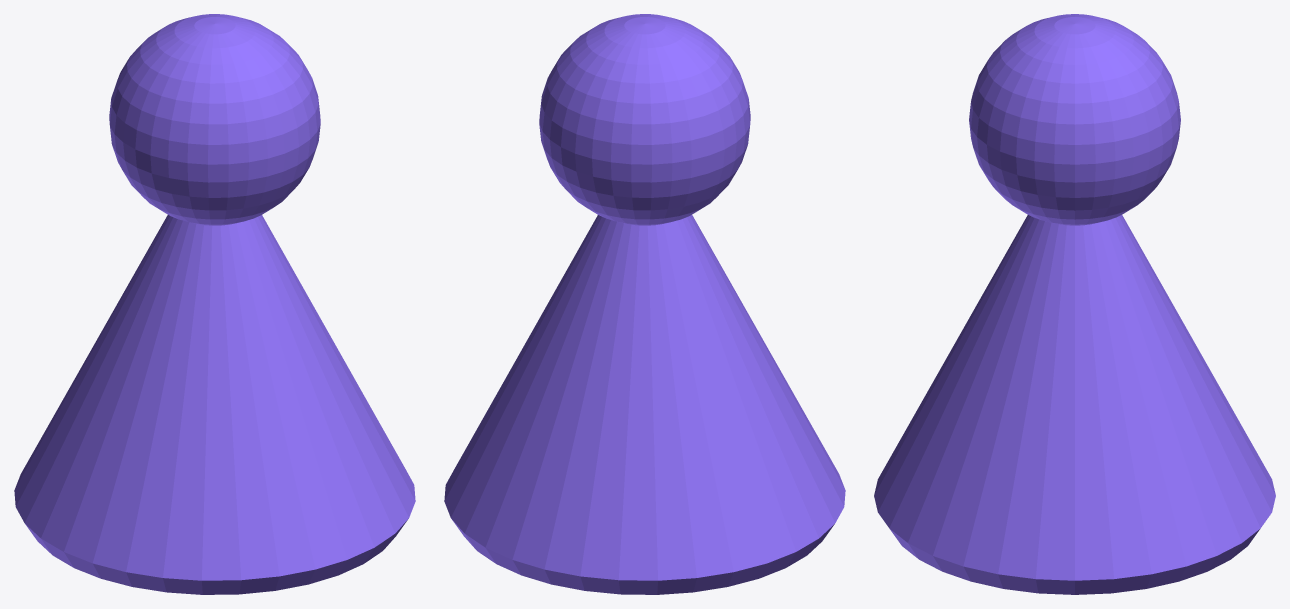
The model's file is Player.fbx.
3 views of the same model, side by side, from view 1: azimuth 30°, elevation 25°; view 2: azimuth 150°, elevation 25°; view 3: azimuth 270°, elevation 25° (orthographic).
Visible parts, largest first — view 1: Cone; view 2: Cone; view 3: Cone.
Boxes of the visible parts, <box> form: Cone: <box>14,14,415,594</box>; Cone: <box>444,14,845,594</box>; Cone: <box>874,14,1275,594</box>.
Size of the model in its own units: 190 by 256 by 190.
